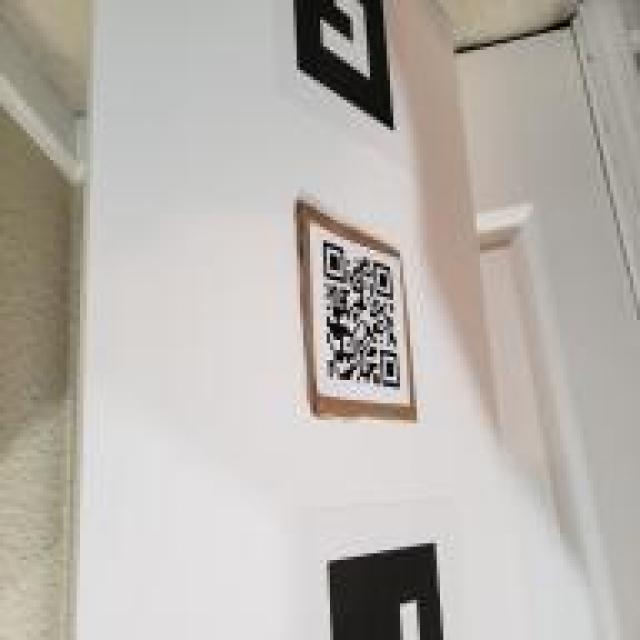qr_code: (322, 241, 400, 389)
